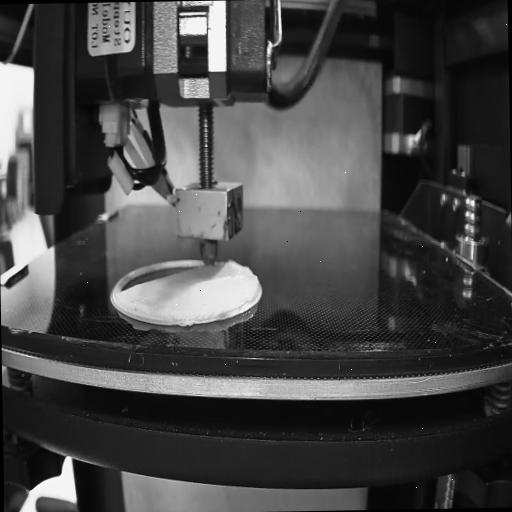over_extrusion: (224, 254, 262, 304)
